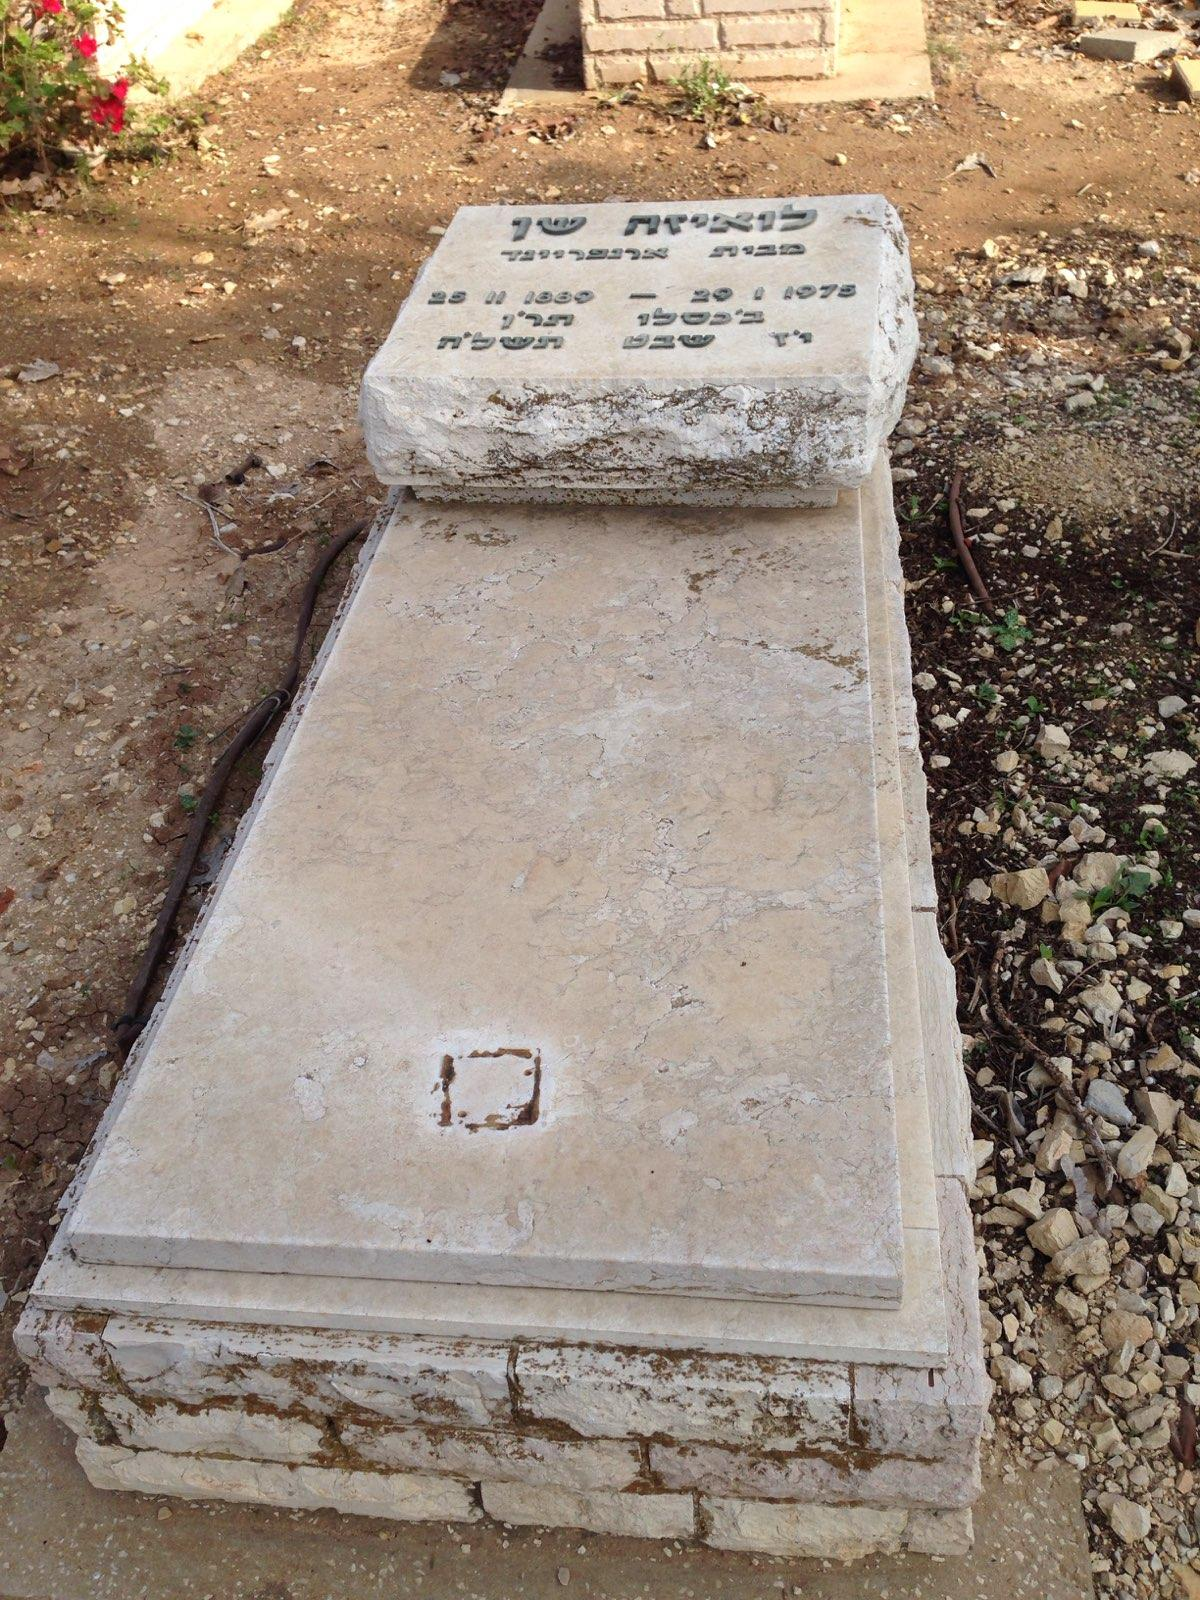vault: (13, 194, 1011, 1566)
